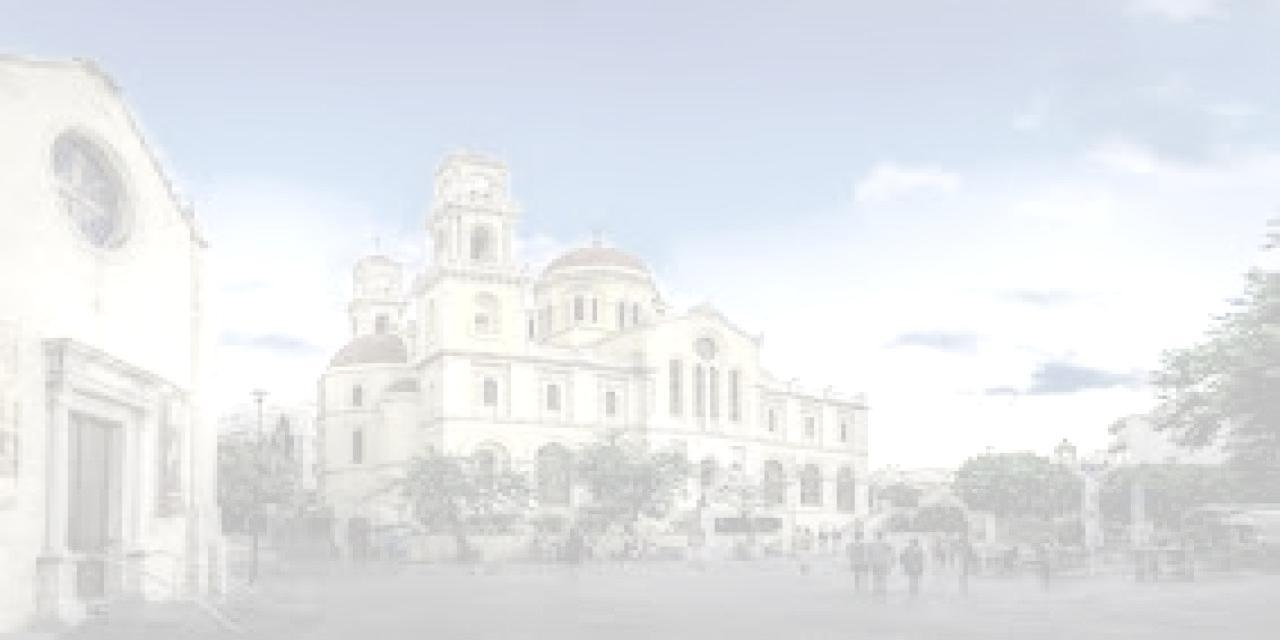Agios Minas: (318, 149, 877, 567)
